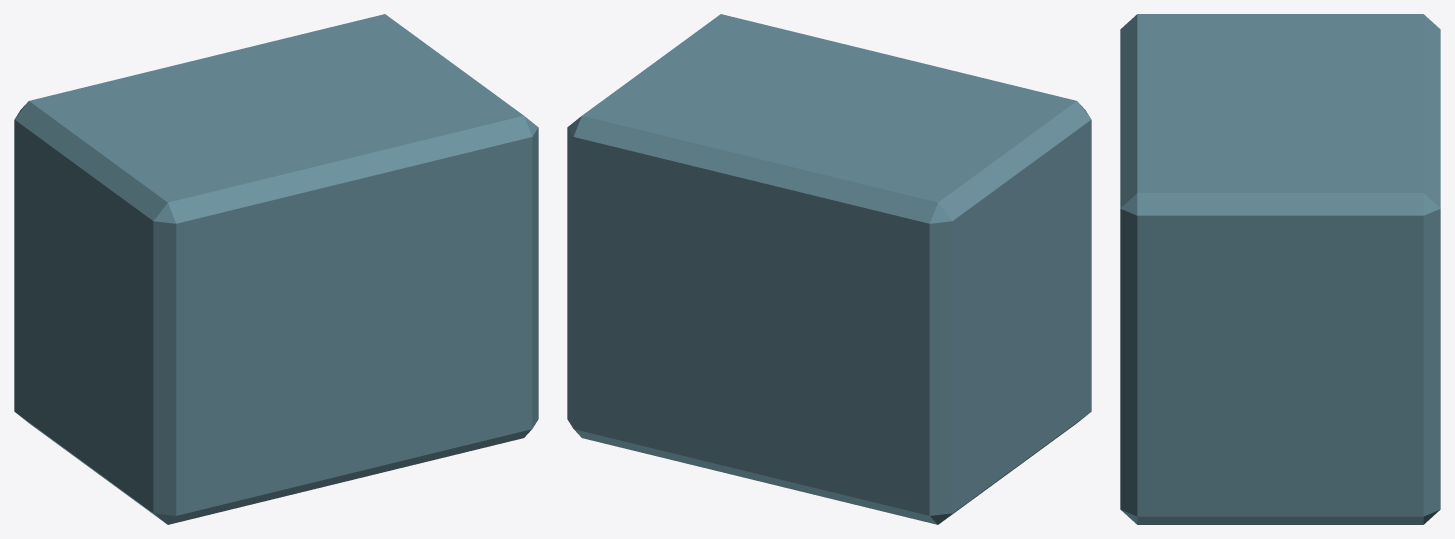
Rendered from Crate_Normal.obj.
The picture shows the model from 3 angles, left to right: view 1: azimuth 30°, elevation 25°; view 2: azimuth 150°, elevation 25°; view 3: azimuth 270°, elevation 25°; orthographic projection. The views are drawn at different scales.
Parts seen in each view (by area): view 1: Asset; view 2: Asset; view 3: Asset.
Part boxes in pixels (left/top/right/bottom): Asset: left=14, top=14, right=538, bottom=524; Asset: left=567, top=14, right=1091, bottom=524; Asset: left=1120, top=14, right=1440, bottom=524.
Size of the model in its own units: 2 by 1.6 by 1.4.
